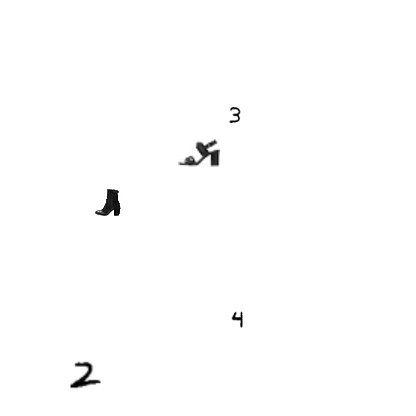2: (63, 356, 105, 398)
3: (224, 104, 246, 126)
4: (227, 307, 249, 329)
Ankle_boot: (94, 188, 122, 216)
Sandal: (178, 132, 220, 174)
